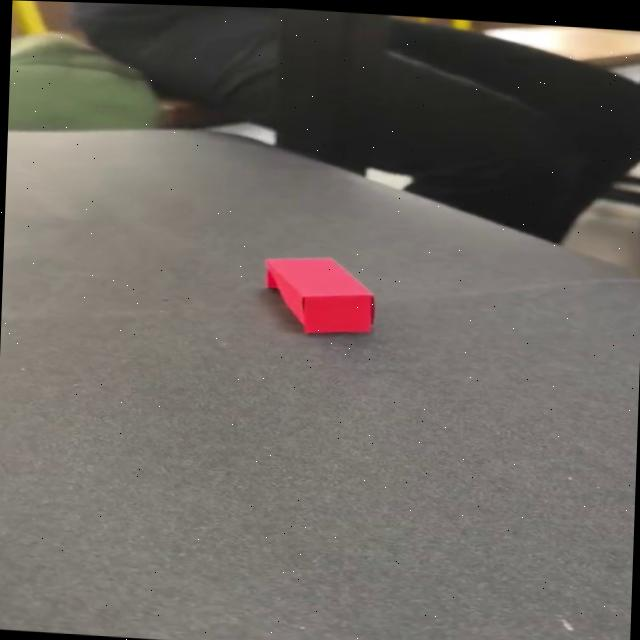red block: (262, 251, 378, 337)
